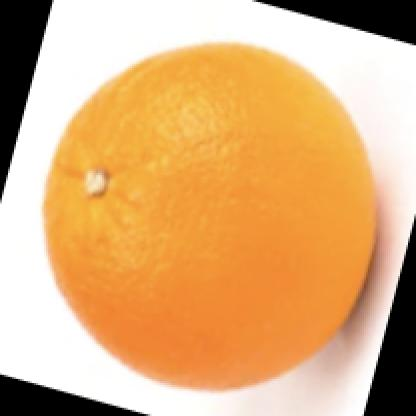orange: (41, 44, 381, 390)
